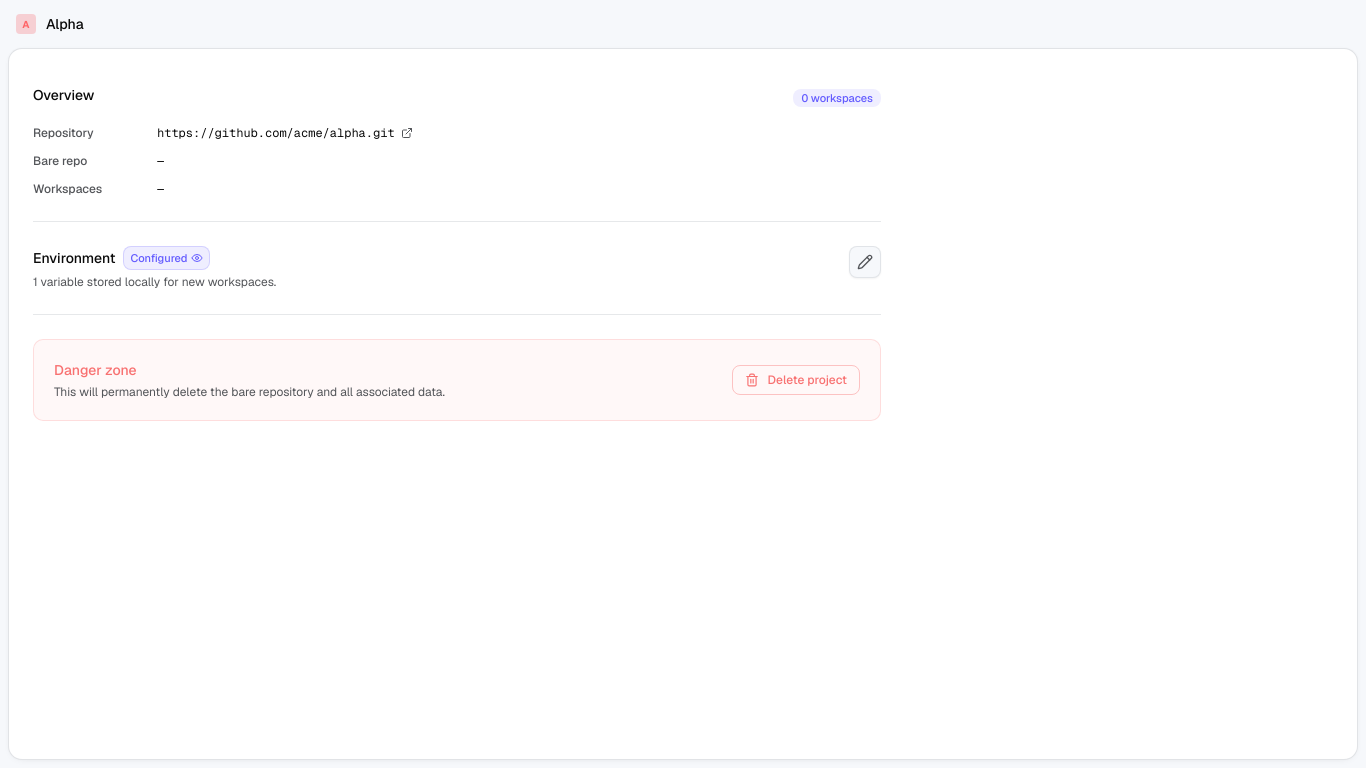
Test: ProjectDetail › renders project environment config and opens generated view-only modal
Click the button named "Edit environment" at (865, 262), box [849,246,881,278]
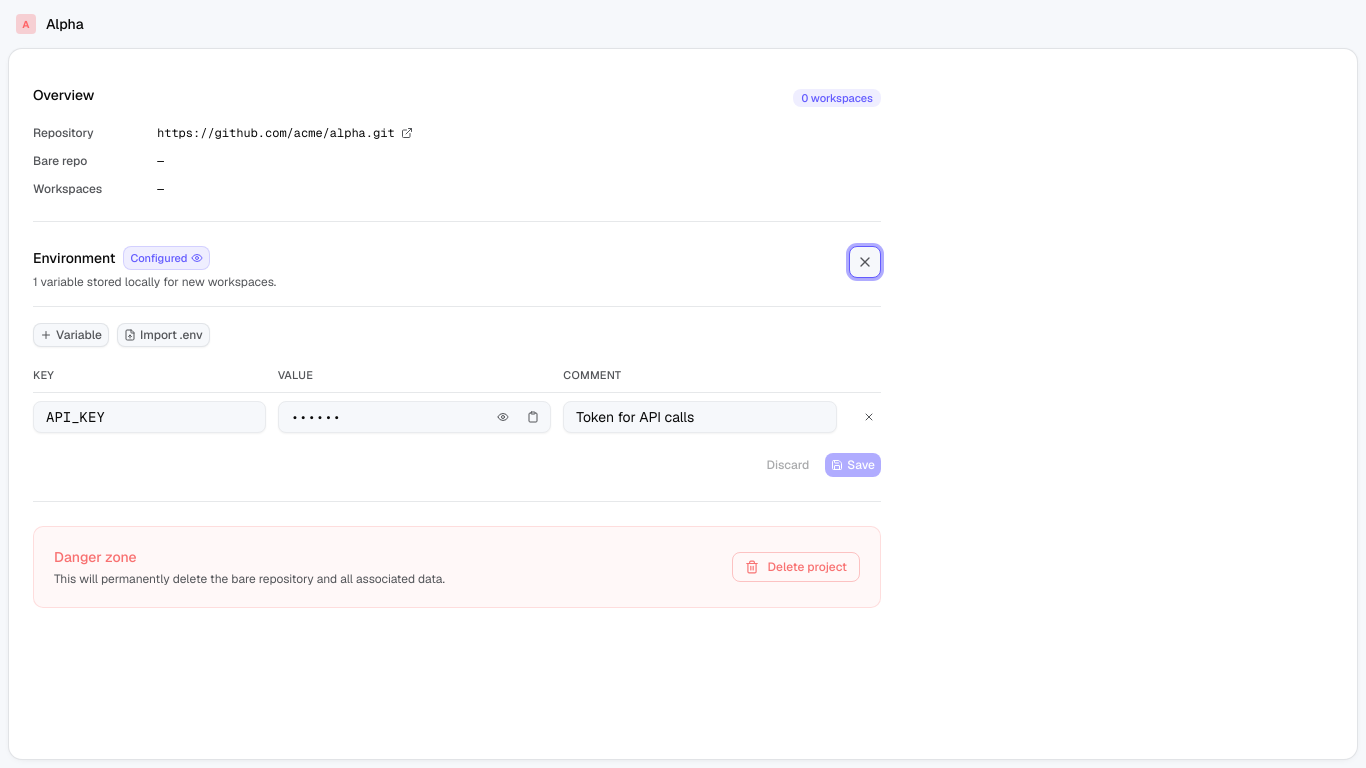
Result: the field showing "API_KEY" is shown at [33,400,266,432]
Result: the field showing "Token for API calls" is shown at [563,400,837,432]
Click the button with aria-label "View generated .env" at (167, 258), box [123,246,210,270]
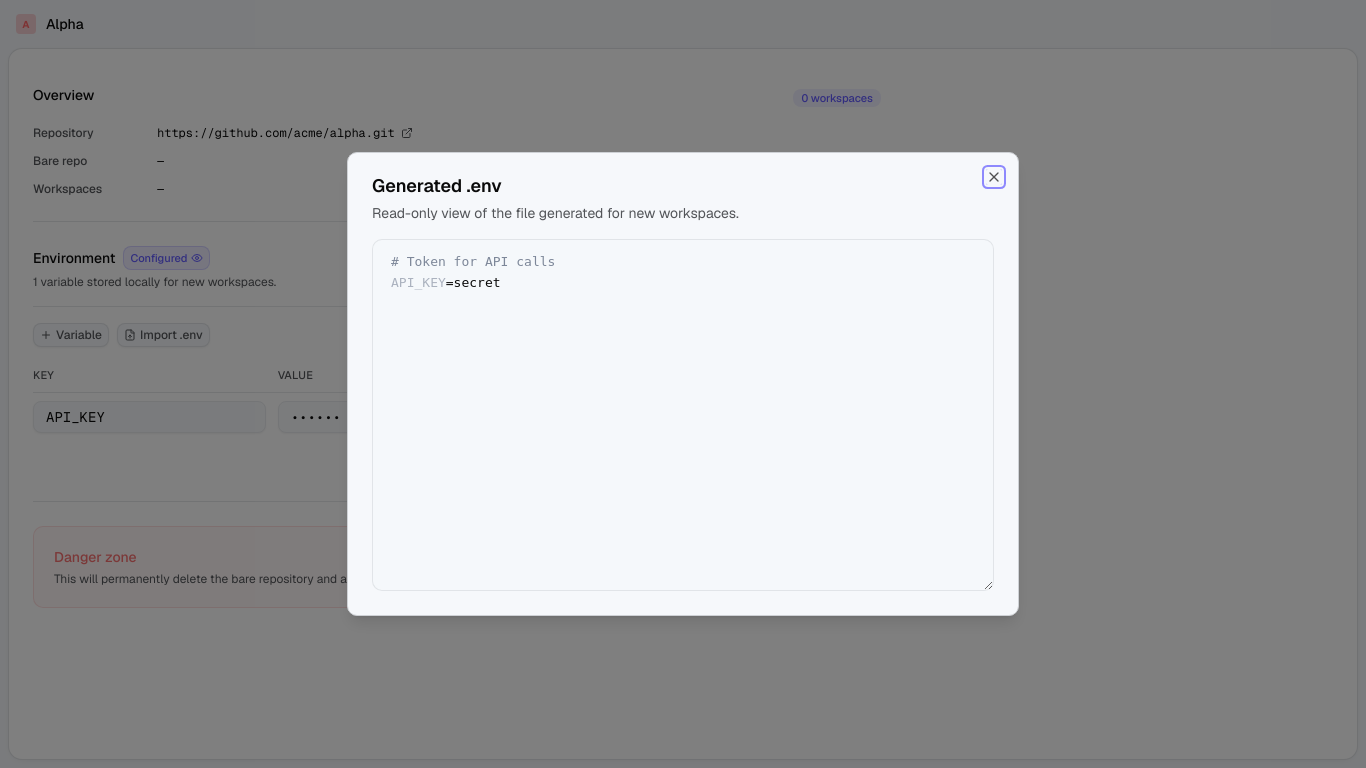
Result: the field shows "# Token for API calls" at [391,254,555,269]
Result: the field shows "API_KEY=secret" at [391,254,555,290]
